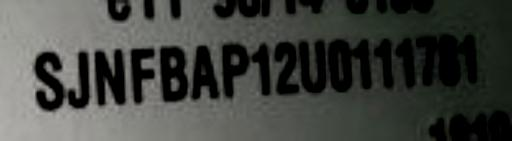letter: (91, 42, 127, 107), (26, 49, 64, 110), (187, 42, 223, 103), (295, 35, 331, 94), (269, 36, 301, 97), (157, 42, 189, 103), (128, 46, 160, 107), (217, 42, 249, 101), (433, 32, 465, 87), (66, 49, 94, 110), (249, 35, 275, 100), (348, 32, 376, 91), (452, 29, 482, 84), (390, 32, 420, 87), (410, 32, 440, 87), (324, 39, 354, 94), (371, 35, 397, 94)
